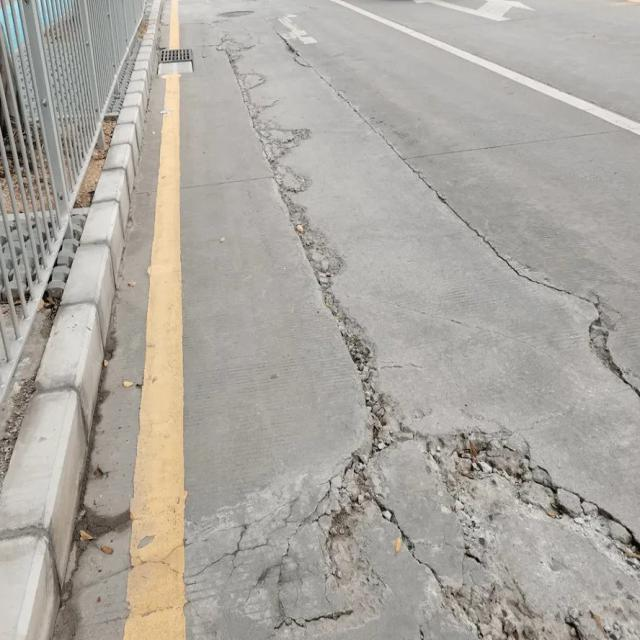pothole: (204, 25, 377, 629), (402, 425, 640, 584), (578, 291, 635, 404)
